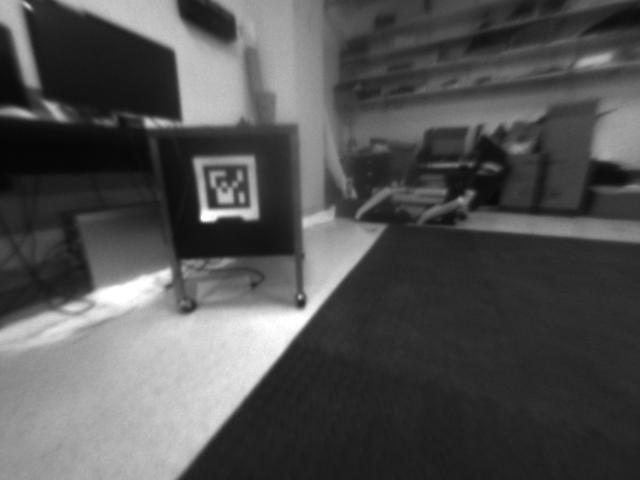coffee_cup: (252, 90, 280, 125)
